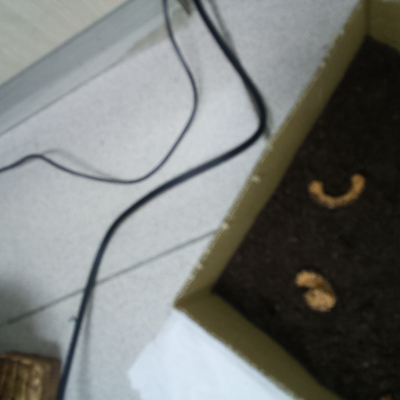eggs: (302, 165, 371, 214), (287, 264, 340, 314)
